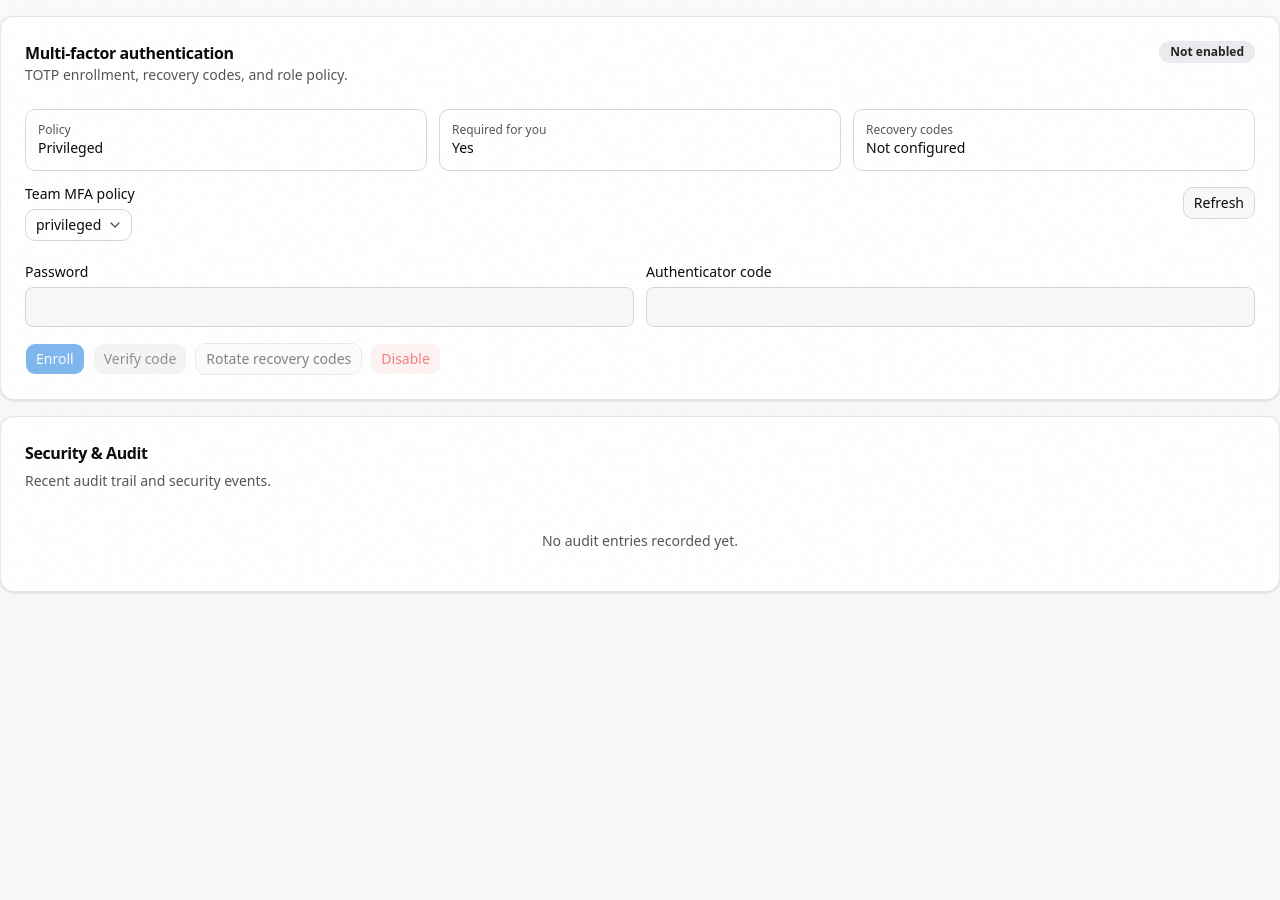
it: SecuritySettingsTab › starts enrollment and shows one-time recovery codes
Type "secret-password" into the password field with test id "security-mfa-password".
click(330, 307); type("secret-password")  # box [25, 287, 634, 327]
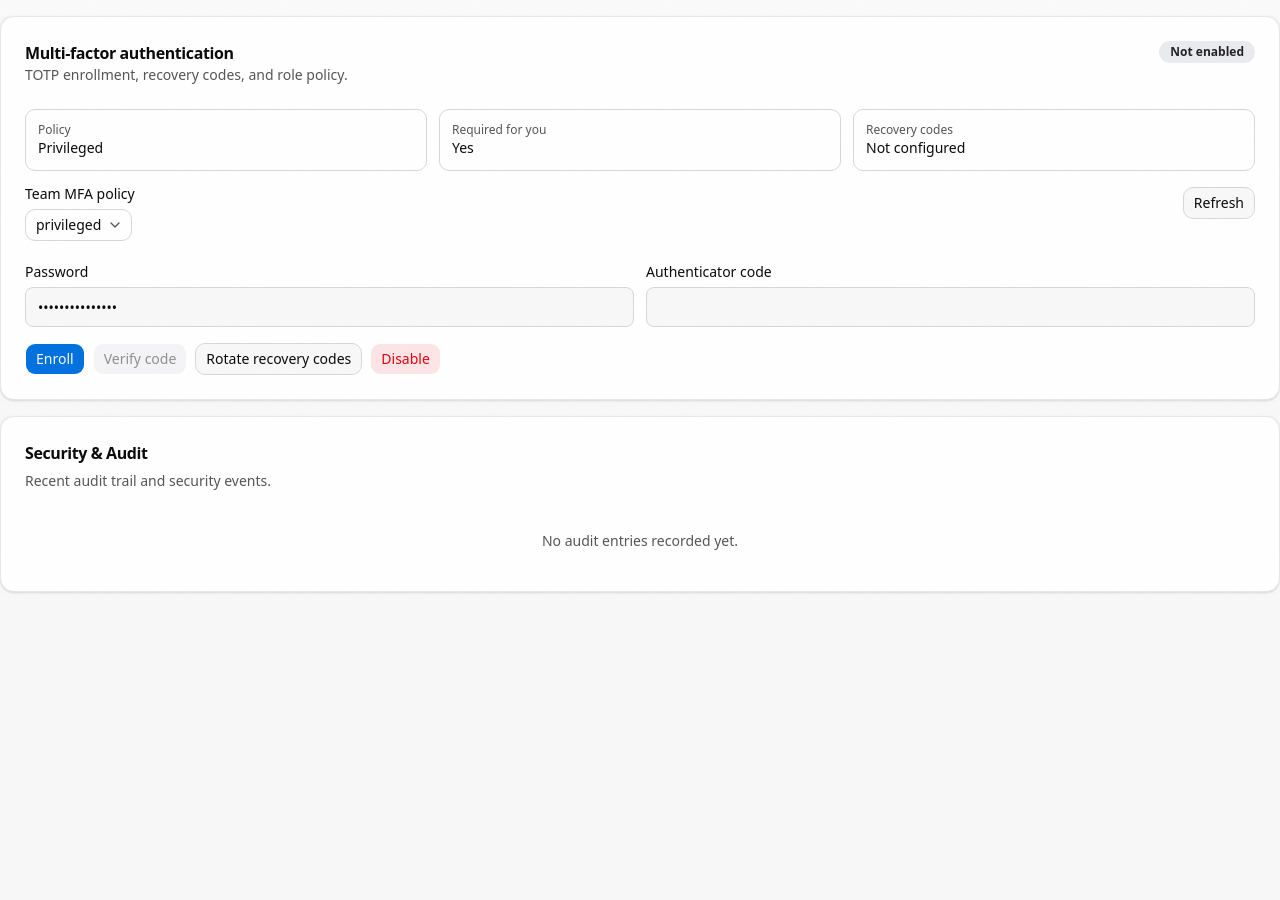
Click the button with test id "security-mfa-enroll".
click(55, 359)  # box [25, 343, 85, 375]
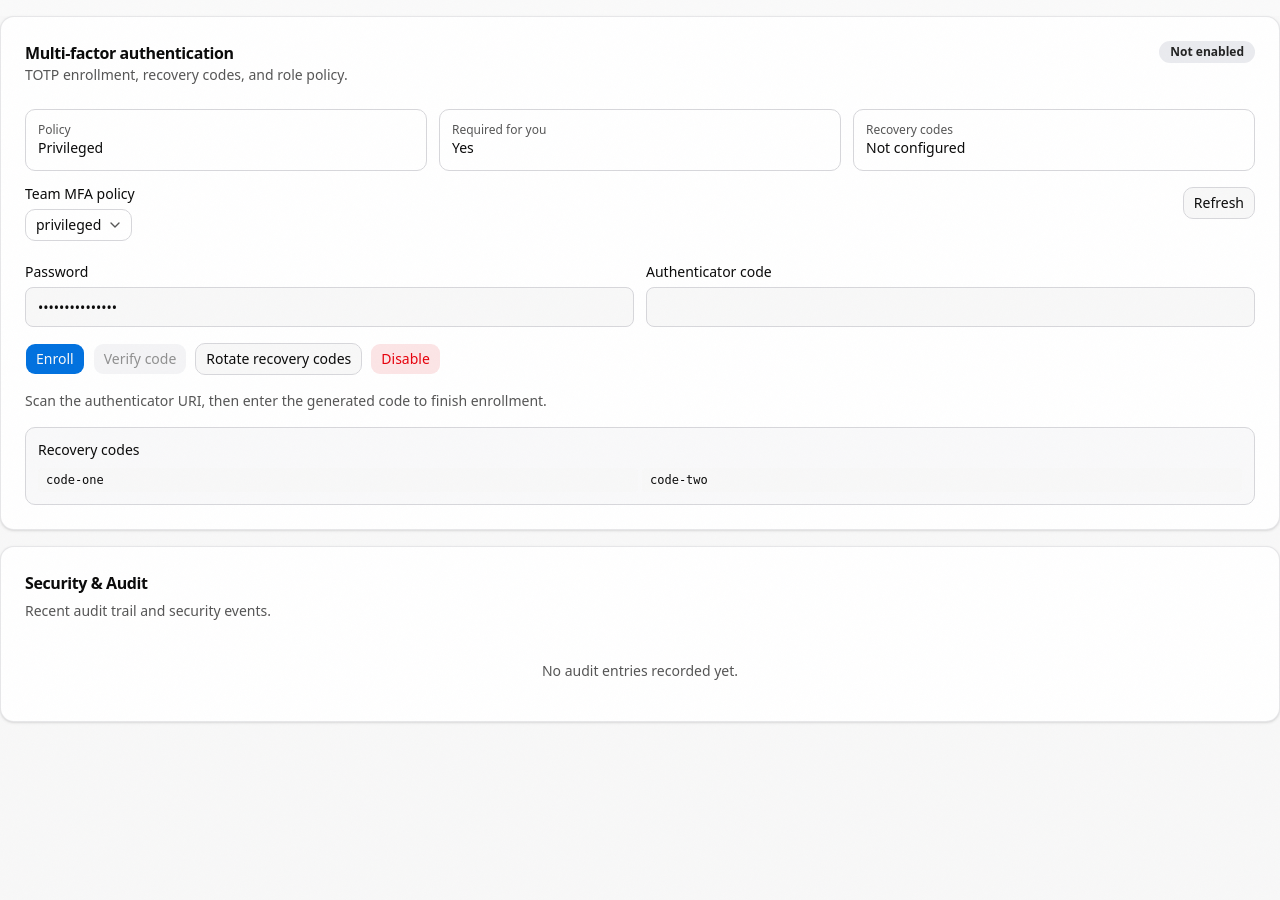
Result: the element with test id "security-backup-codes" shows "code-one" at [46, 473, 104, 487]
